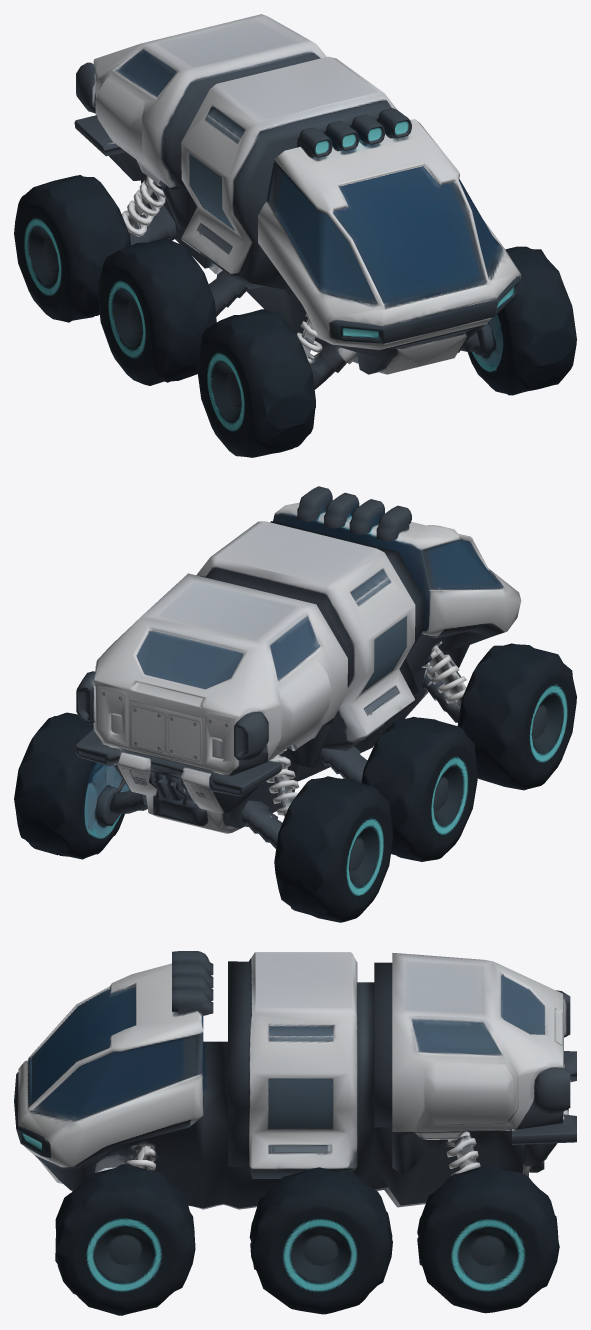
The model's file is rover_ice.glb.
The picture shows the model from 3 angles, top to bottom: view 1: azimuth 30°, elevation 25°; view 2: azimuth 150°, elevation 25°; view 3: azimuth 270°, elevation 25°; orthographic projection.
Parts seen in each view (by area): view 1: tripo_0f9227cc_20eb_4339_9742_77fae3662304; view 2: tripo_0f9227cc_20eb_4339_9742_77fae3662304; view 3: tripo_0f9227cc_20eb_4339_9742_77fae3662304.
Part boxes in pixels (box(x1,y1,x2,y2)): tripo_0f9227cc_20eb_4339_9742_77fae3662304: box(14, 14, 576, 457); tripo_0f9227cc_20eb_4339_9742_77fae3662304: box(14, 486, 576, 922); tripo_0f9227cc_20eb_4339_9742_77fae3662304: box(14, 951, 576, 1315).
Size of the model in its own units: 0.6606 by 0.5278 by 0.9995.
1 material, 1 textured.
